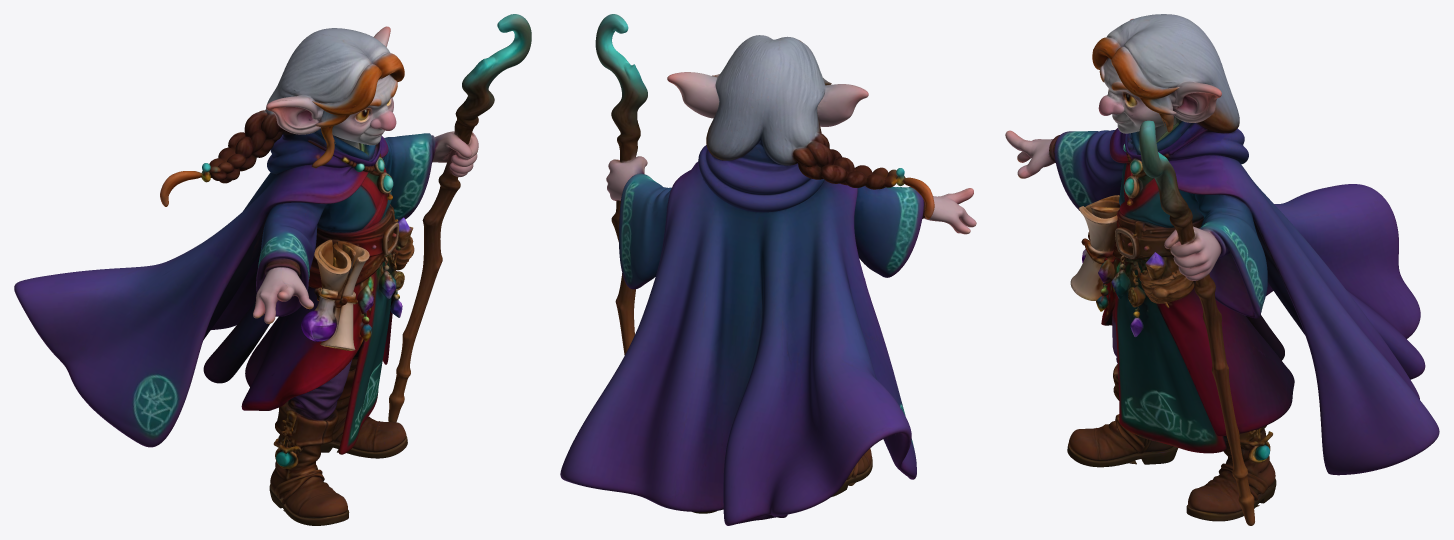
The model's file is gnome_mage_full_female_01.glb.
3 renders of one model, left to right at view 1: azimuth 30°, elevation 25°; view 2: azimuth 150°, elevation 25°; view 3: azimuth 270°, elevation 25°, orthographic. The views are drawn at different scales.
Parts seen in each view (by area): view 1: material; view 2: material; view 3: material.
Part boxes in pixels (box(x1,y1,x2,y2)): material: box(14, 14, 531, 525); material: box(560, 14, 976, 525); material: box(1005, 14, 1439, 525).
Size of the model in its own units: 0.8679 by 0.9039 by 0.768.
1 material, 1 textured.
